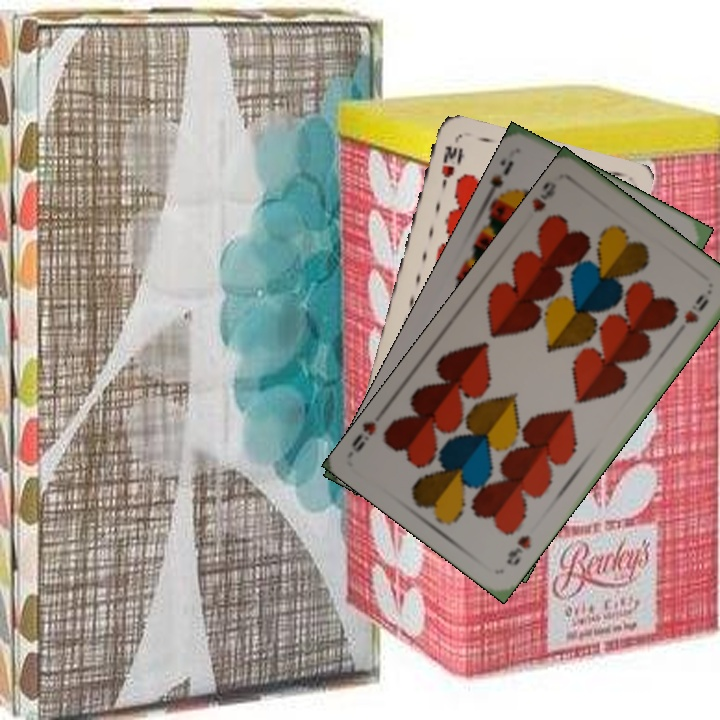H10: (437, 141, 463, 191)
H9: (502, 531, 534, 569), (528, 177, 559, 215)
S9: (480, 156, 517, 207)
